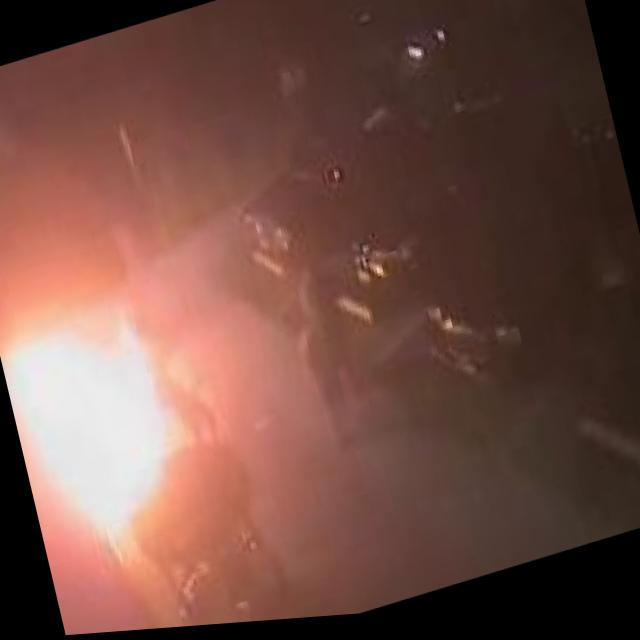fire: (0, 273, 217, 561)
